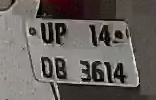1: (86, 24, 99, 48), (103, 60, 115, 84)
3: (78, 58, 91, 84)
4: (98, 24, 113, 48), (114, 61, 128, 85)
6: (91, 58, 105, 83)
B: (53, 55, 69, 80)
D: (37, 53, 55, 79)
P: (54, 23, 68, 46)
U: (38, 21, 55, 46)
